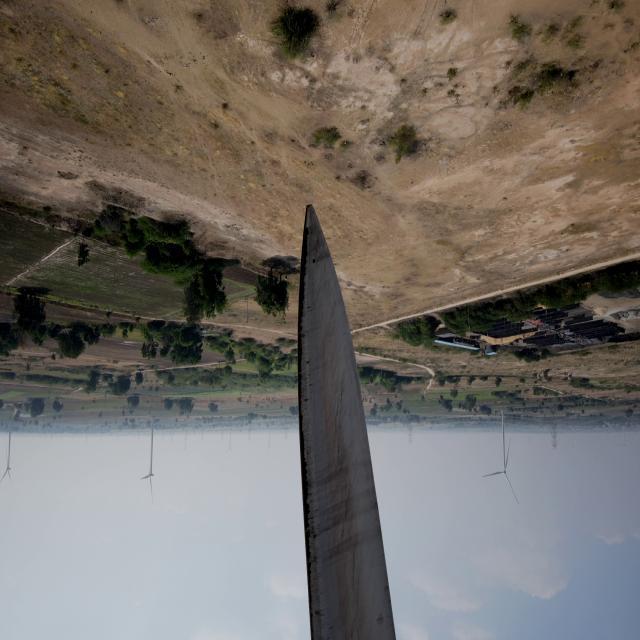Dirt: (293, 202, 402, 640)
Pin Hole: (300, 302, 315, 410), (309, 256, 321, 268), (304, 227, 314, 240)
